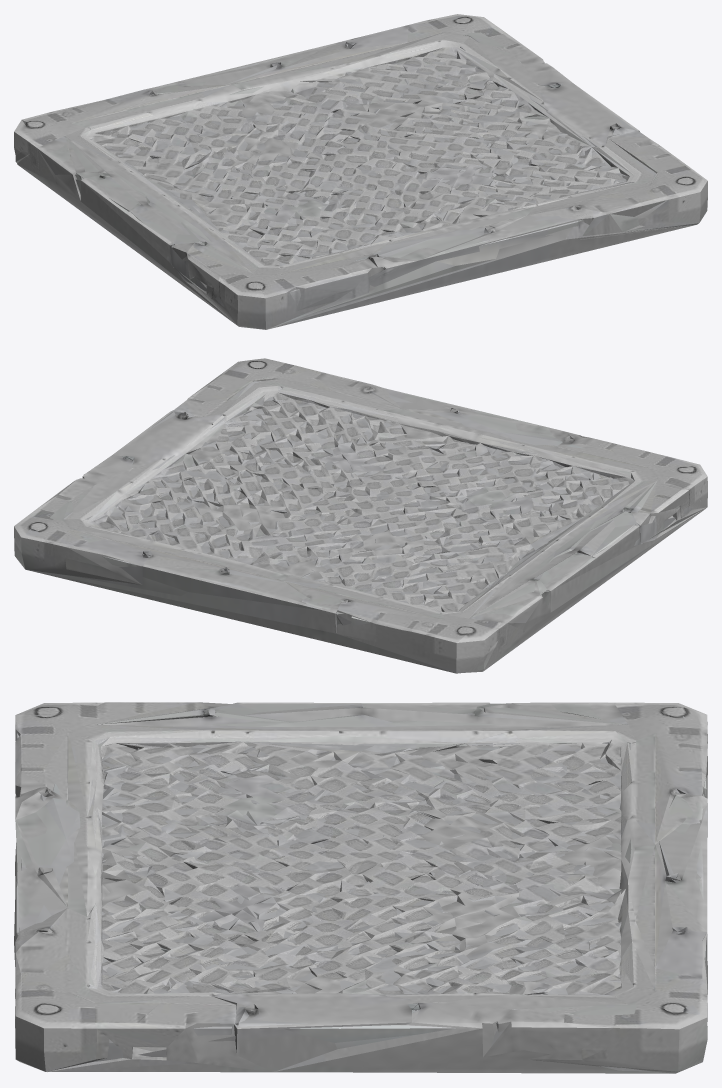
The model's file is ceiling_light.glb.
The picture shows the model from 3 angles, top to bottom: view 1: azimuth 30°, elevation 25°; view 2: azimuth 150°, elevation 25°; view 3: azimuth 270°, elevation 25°; orthographic projection. The views are drawn at different scales.
Visible parts, largest first — view 1: output_unwrapped; view 2: output_unwrapped; view 3: output_unwrapped.
Part boxes in pixels (left/top/right/bottom): output_unwrapped: left=14, top=14, right=707, bottom=329; output_unwrapped: left=14, top=358, right=707, bottom=673; output_unwrapped: left=14, top=702, right=707, bottom=1073.
Bounding box in the file's own units: 1.9 × 0.1515 × 1.71.
Materials: 1 (1 with a texture image).
